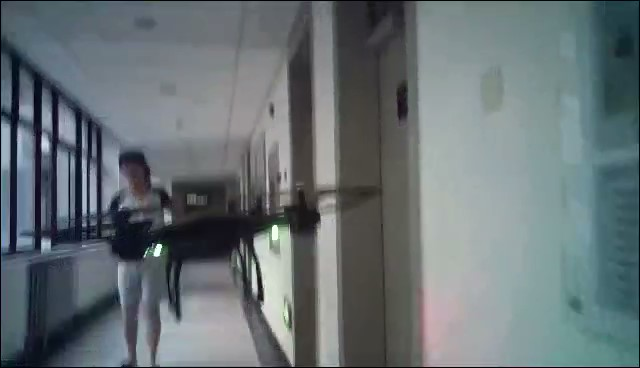drone: (19, 180, 384, 322)
person: (111, 147, 181, 368)
